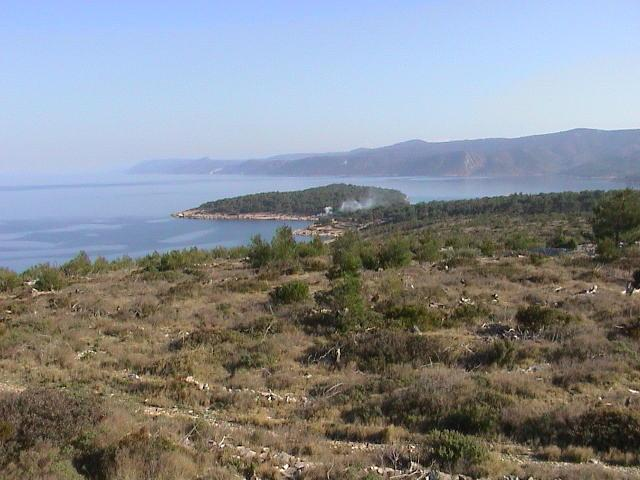Smoke: (319, 181, 415, 217)
